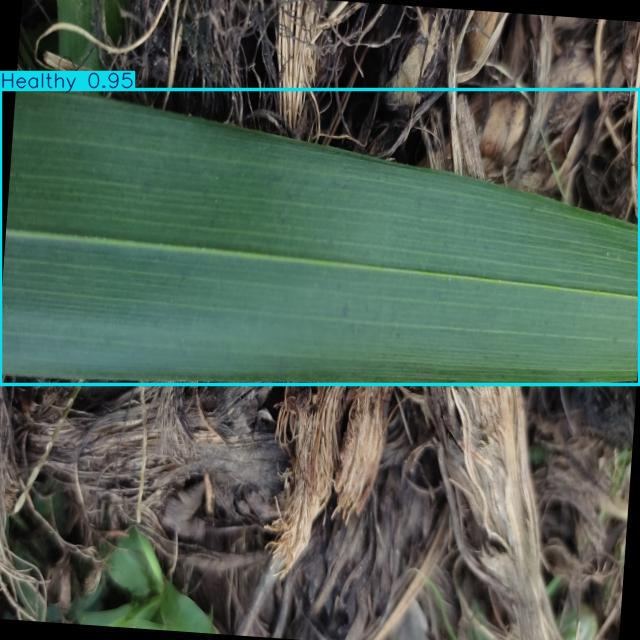Healthy: (1, 89, 640, 384)
